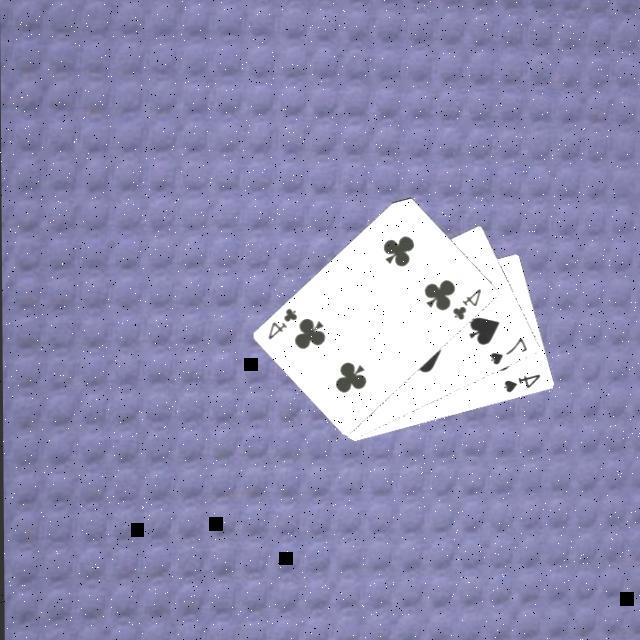4C: (264, 307, 300, 345), (448, 287, 483, 325)
4S: (498, 372, 542, 398)
7S: (486, 336, 530, 370)
